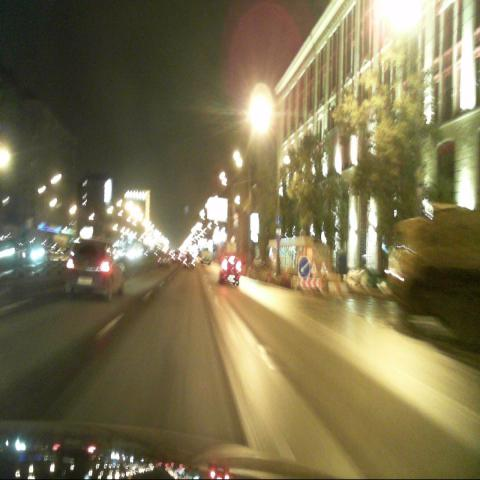4_2_2: (299, 256, 310, 277)
